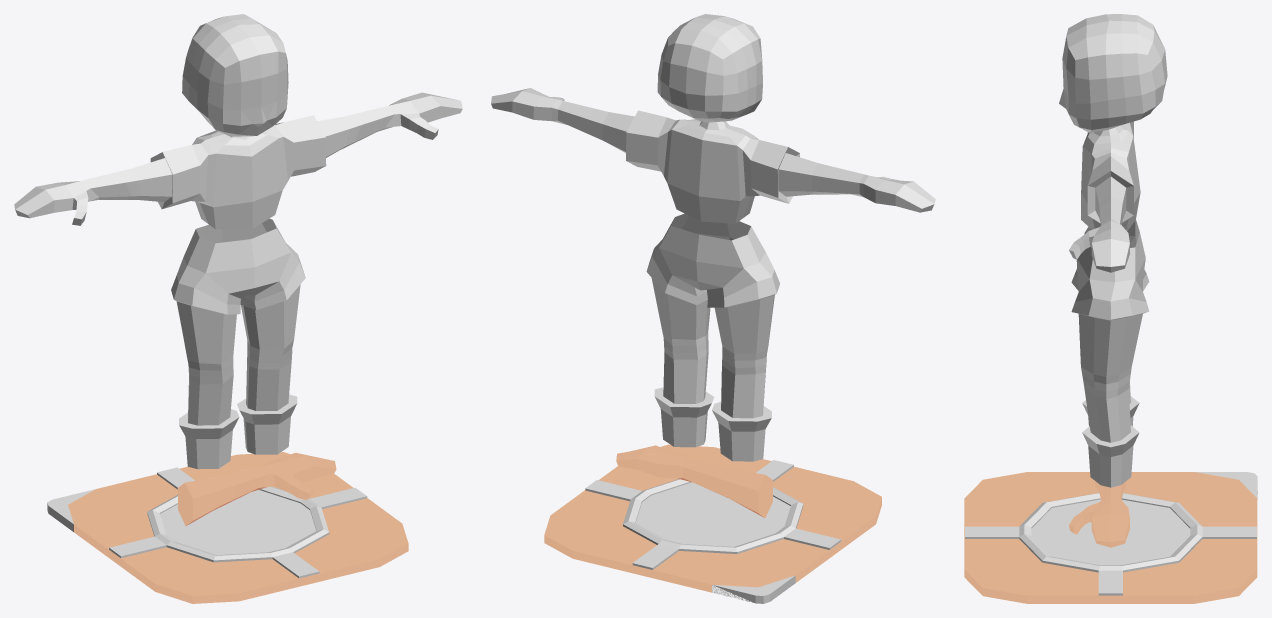
The model's file is bandaid.fbx.
The picture shows the model from 3 angles, left to right: view 1: azimuth 30°, elevation 25°; view 2: azimuth 150°, elevation 25°; view 3: azimuth 270°, elevation 25°; orthographic projection. The views are drawn at different scales.
Parts seen in each view (by area): view 1: Penso_BraveHearts, Cylinder.001, Cylinder, Cube, Arm_BraveHearts; view 2: Penso_BraveHearts, Cylinder.001, Cylinder, Cube, Arm_BraveHearts; view 3: Penso_BraveHearts, Cylinder.001, Cube, Cylinder, Arm_BraveHearts.
Part boxes in pixels (<box>): Penso_BraveHearts: <box>47,452,408,603</box>; Cylinder.001: <box>171,218,305,469</box>; Cylinder: <box>14,92,462,229</box>; Cube: <box>182,14,288,136</box>; Arm_BraveHearts: <box>177,453,336,525</box>; Penso_BraveHearts: <box>544,444,881,603</box>; Cylinder.001: <box>646,213,779,461</box>; Cylinder: <box>491,88,935,223</box>; Cube: <box>657,14,762,122</box>; Arm_BraveHearts: <box>616,445,772,517</box>; Penso_BraveHearts: <box>964,472,1257,603</box>; Cylinder.001: <box>1071,220,1149,487</box>; Cube: <box>1059,14,1167,132</box>; Cylinder: <box>1069,121,1140,272</box>; Arm_BraveHearts: <box>1069,481,1129,547</box>.
Size of the model in its own units: 361 by 392 by 200.
